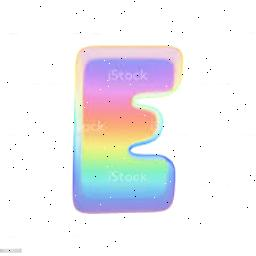e: (66, 36, 188, 216)
